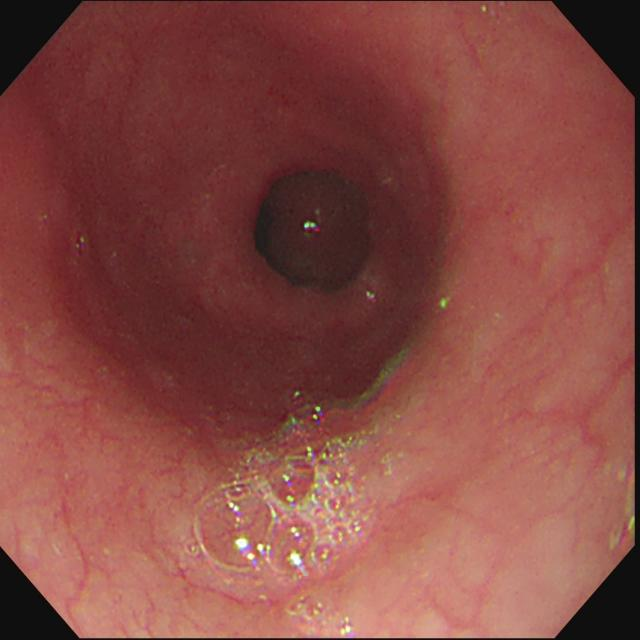E: (241, 154, 385, 302)
T: (188, 385, 379, 579), (287, 589, 324, 623)
